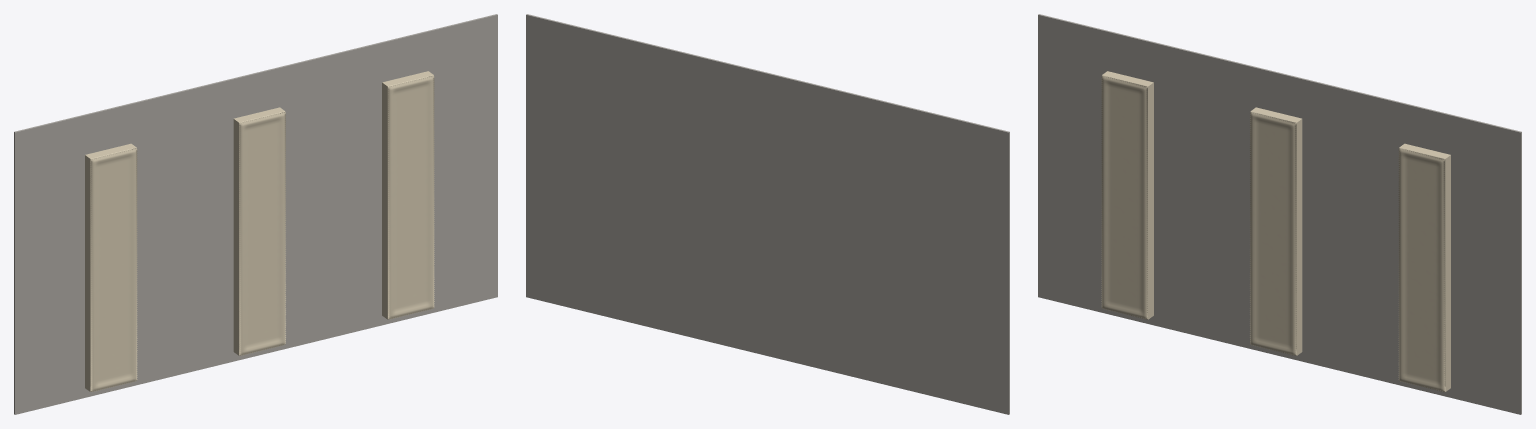
The model's file is terilgan.glb.
3 views of the same model, side by side, from view 1: azimuth 30°, elevation 25°; view 2: azimuth 150°, elevation 25°; view 3: azimuth 330°, elevation 25° (orthographic).
Visible parts, largest first — view 1: Devor, t1, t2, t0; view 2: Devor; view 3: Devor, t1, t0, t2.
Part boxes in pixels (x1,y1,x2,y2): Devor: [14, 14, 497, 414]; t1: [233, 107, 285, 355]; t2: [382, 71, 434, 319]; t0: [85, 143, 137, 392]; Devor: [526, 14, 1009, 414]; Devor: [1038, 14, 1521, 414]; t1: [1250, 107, 1302, 355]; t0: [1101, 71, 1153, 319]; t2: [1398, 143, 1450, 392].
Size of the model in its own units: 2.6 by 1.45 by 0.0718.
